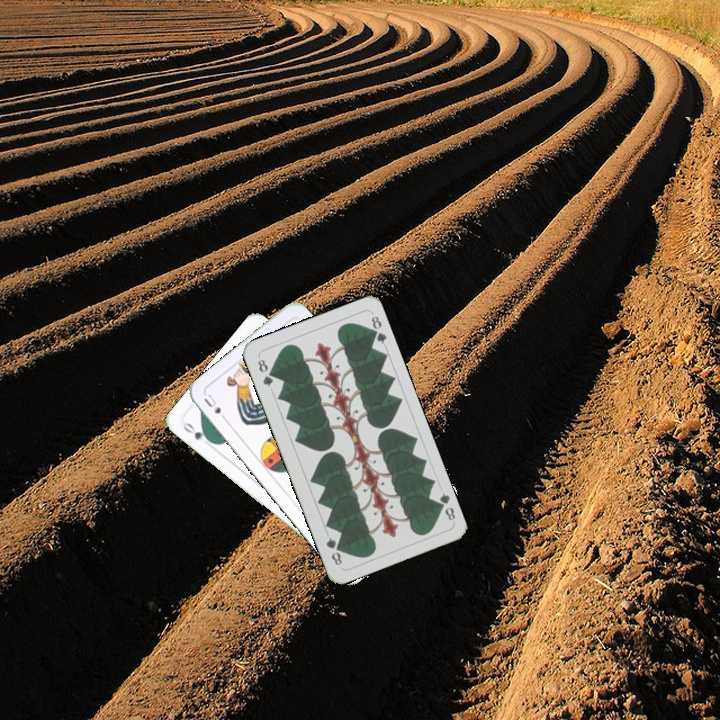G8: (432, 488, 458, 524), (254, 353, 276, 390)
GO: (179, 418, 215, 446)
SU: (200, 390, 231, 425)
